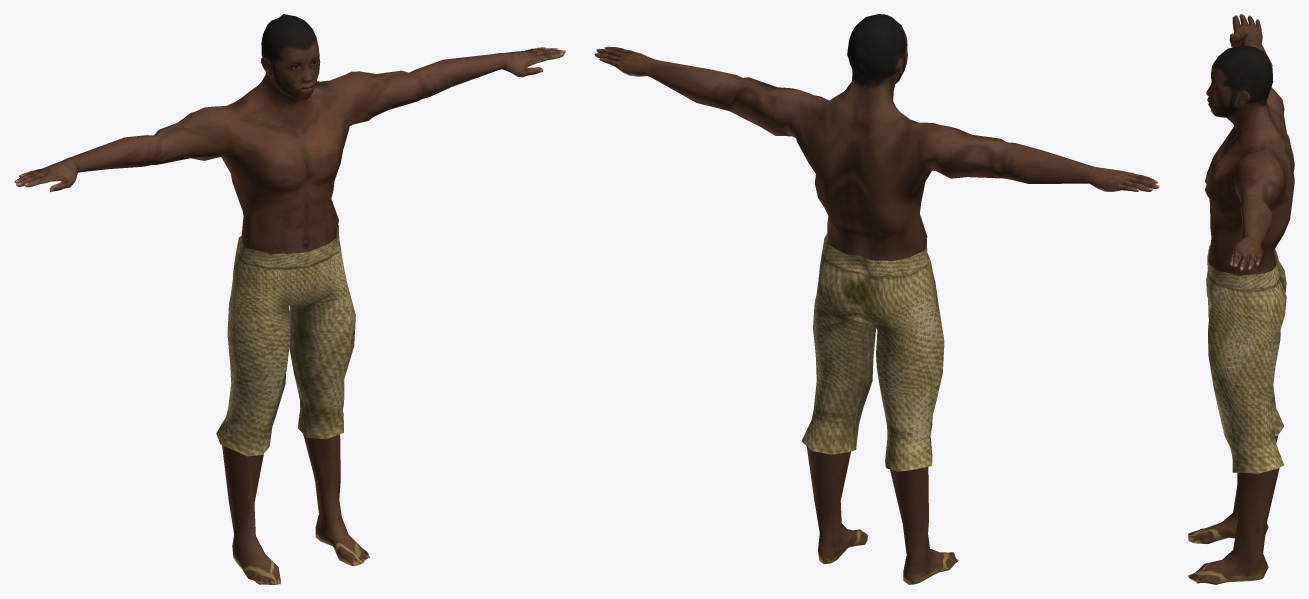
Rendered from Osório.fbx.
3 views of the same model, side by side, from view 1: azimuth 30°, elevation 25°; view 2: azimuth 150°, elevation 25°; view 3: azimuth 270°, elevation 25° (orthographic). The views are drawn at different scales.
Visible parts, largest first — view 1: Corpo; view 2: Corpo; view 3: Corpo.
Boxes of the visible parts, bbox=[...] form: Corpo: bbox=[14, 14, 565, 584]; Corpo: bbox=[594, 14, 1159, 584]; Corpo: bbox=[1188, 14, 1294, 584].
Bounding box in the file's own units: 192 × 179 × 33.79.
2 materials, 2 textured.
